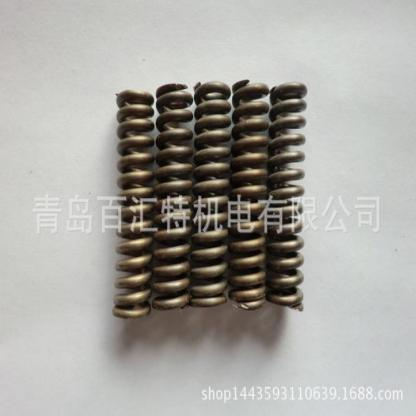FOD: (109, 86, 157, 320), (191, 79, 234, 308), (230, 77, 272, 311), (154, 81, 194, 315), (269, 80, 309, 314)
